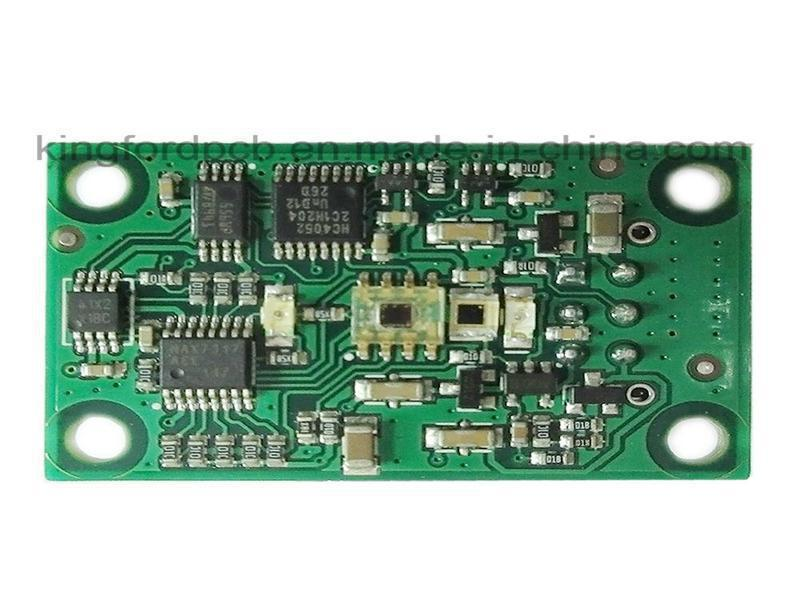SMD capacitor: (425, 425, 503, 456), (342, 422, 378, 477), (359, 382, 431, 405), (588, 204, 618, 250)
SMD resistor: (158, 434, 182, 472), (187, 435, 208, 468), (137, 361, 156, 397), (215, 437, 235, 469), (268, 437, 287, 468), (243, 437, 258, 469)
